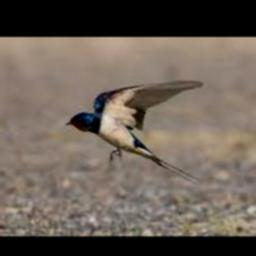Swallow: (65, 80, 204, 183)
